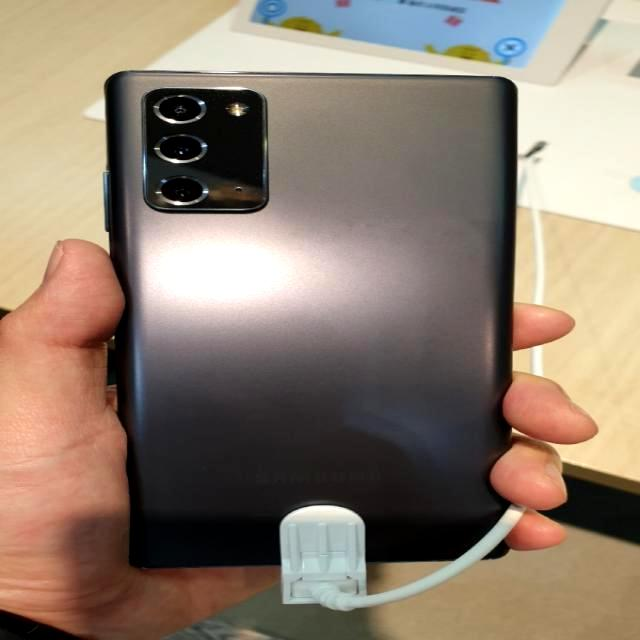lens_back: (154, 92, 208, 127), (156, 173, 208, 208), (152, 134, 210, 164)
phone: (99, 66, 521, 560)
